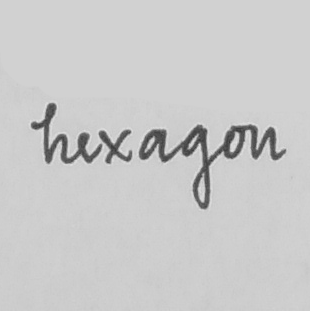a: (137, 126, 169, 164)
e: (75, 128, 95, 166)
g: (179, 122, 213, 211)
h: (40, 100, 72, 166)
n: (248, 121, 279, 162)
o: (221, 123, 246, 161)
x: (97, 126, 135, 166)
